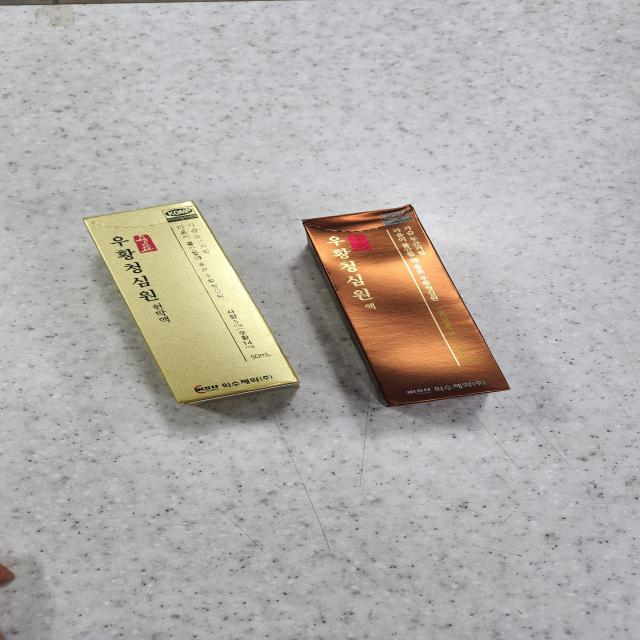box: (86, 201, 297, 404), (304, 206, 509, 406)
